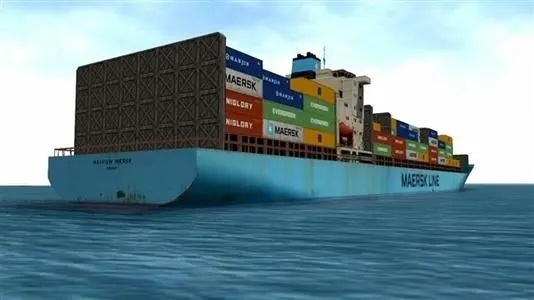Cargoship: (42, 29, 475, 202)
